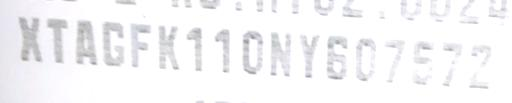letter: (378, 34, 408, 85), (464, 40, 494, 91), (100, 18, 128, 69), (155, 22, 183, 73), (409, 37, 437, 88), (126, 18, 152, 71), (238, 28, 266, 77), (266, 28, 292, 79), (295, 29, 321, 80), (324, 31, 350, 82), (439, 38, 465, 89), (16, 14, 42, 63), (72, 17, 98, 66), (352, 34, 378, 83), (211, 25, 233, 76), (46, 15, 68, 64), (183, 24, 205, 73)
